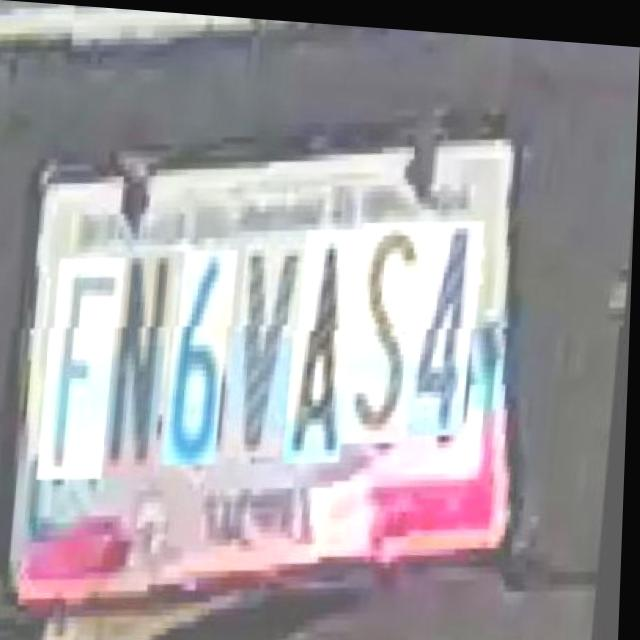4: (417, 220, 489, 443)
6: (176, 248, 243, 471)
a: (295, 228, 368, 469)
f: (50, 255, 129, 485)
n: (115, 249, 181, 485)
s: (352, 220, 432, 450)
v: (236, 240, 310, 464)
